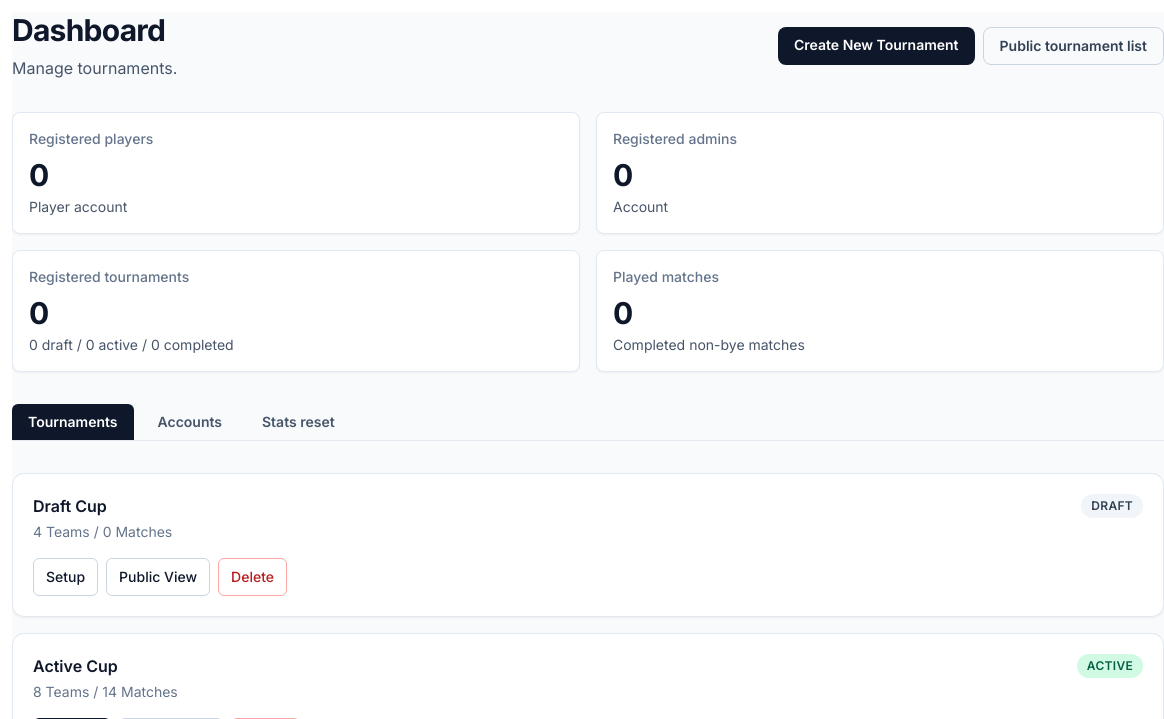
Test case: AdminDashboard › requires a second click before deleting a draft
Click the button with aria-label "Delete Draft Cup".
click(253, 577)  # box [218, 558, 287, 596]
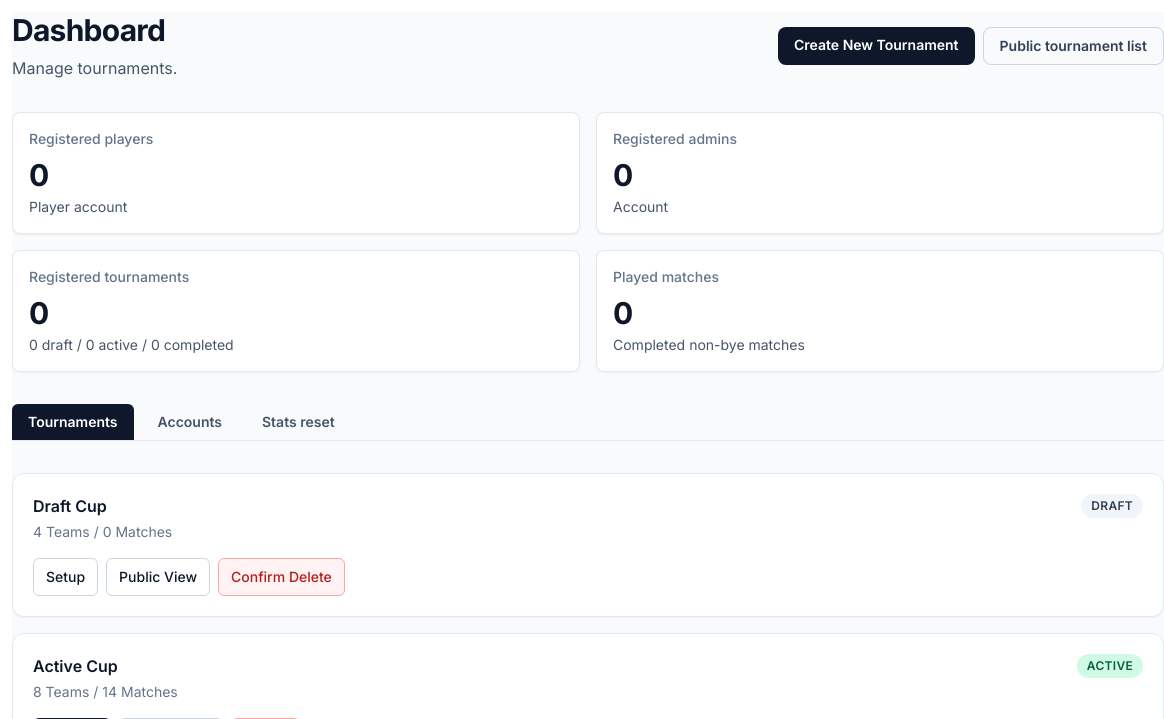
Click the button with aria-label "Confirm Delete Draft Cup".
click(281, 577)  # box [218, 558, 345, 596]
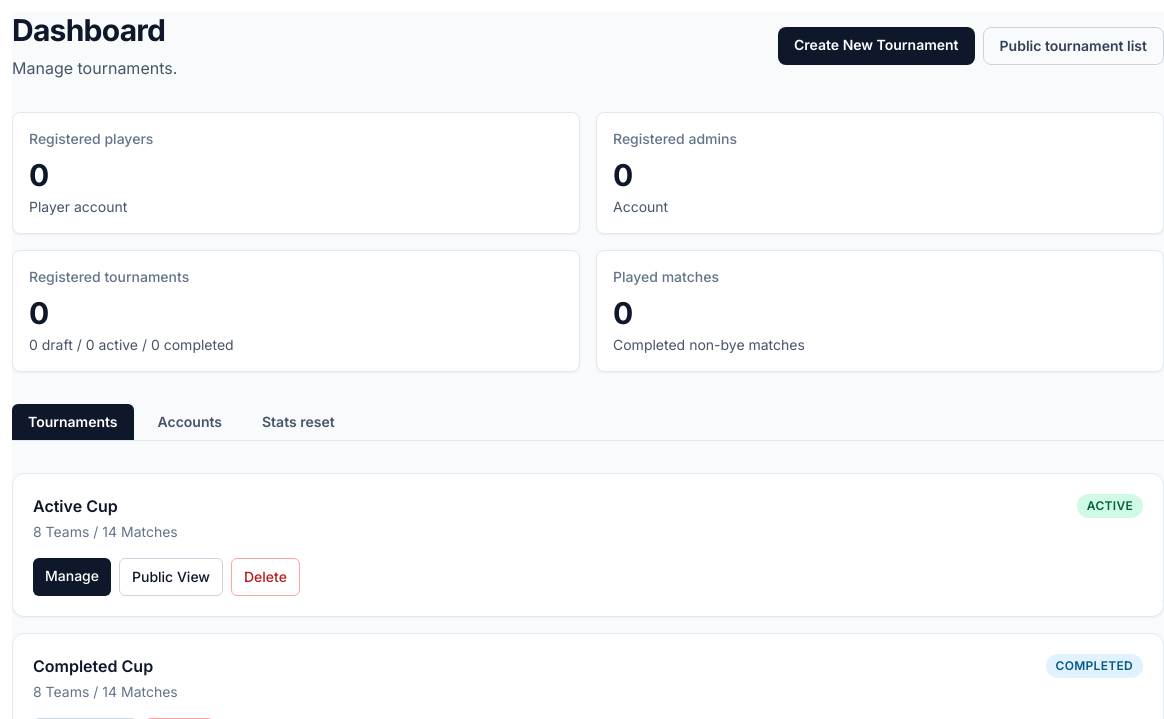
Now the heading "Draft Cup" is gone
